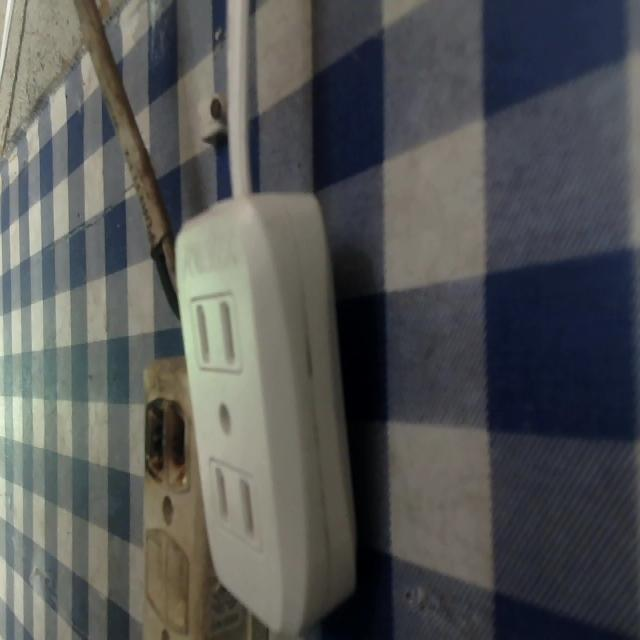-: (139, 384, 189, 484)
